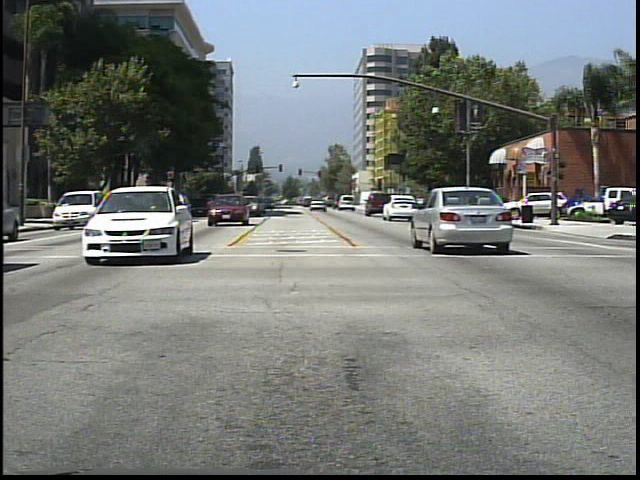person: (465, 190, 478, 222), (433, 191, 447, 215)
